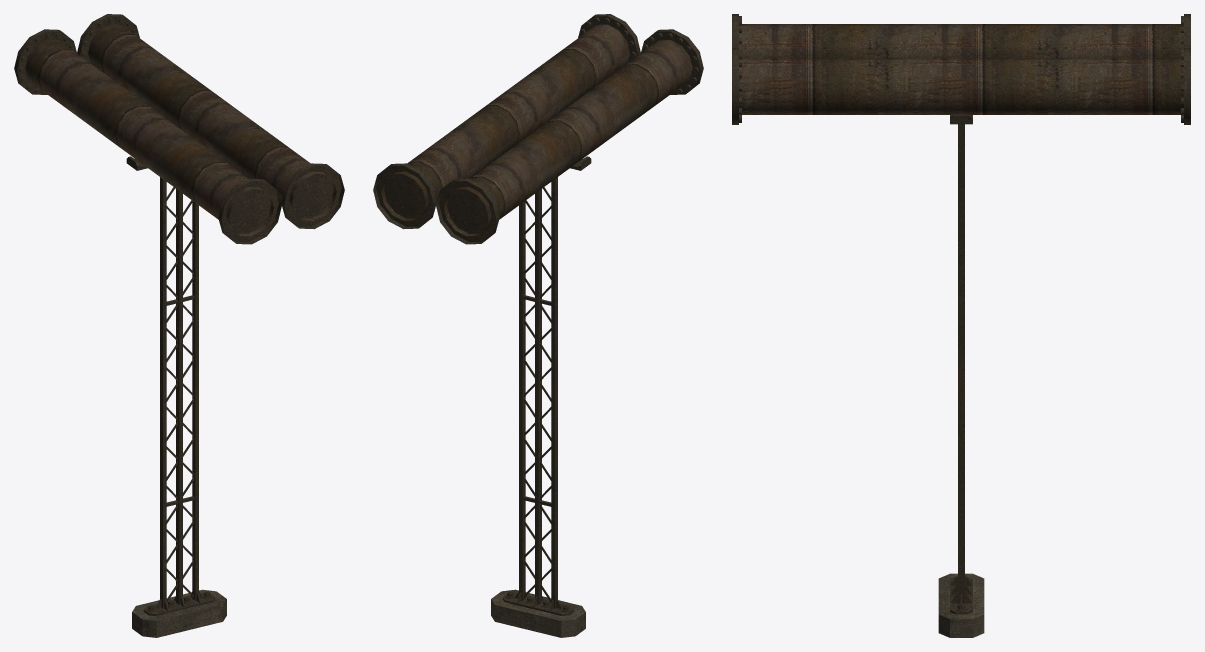
File: pipe_dx_2.obj
The picture shows the model from 3 angles, left to right: view 1: azimuth 30°, elevation 25°; view 2: azimuth 150°, elevation 25°; view 3: azimuth 270°, elevation 25°; orthographic projection. The views are drawn at different scales.
Visible parts, largest first — view 1: pipe_dx_2; view 2: pipe_dx_2; view 3: pipe_dx_2.
Boxes of the visible parts, left/top/right/bottom form: pipe_dx_2: left=14, top=14, right=344, bottom=637; pipe_dx_2: left=373, top=14, right=703, bottom=637; pipe_dx_2: left=732, top=14, right=1190, bottom=637.
Size of the model in its own units: 1.38 by 5.59 by 4.
